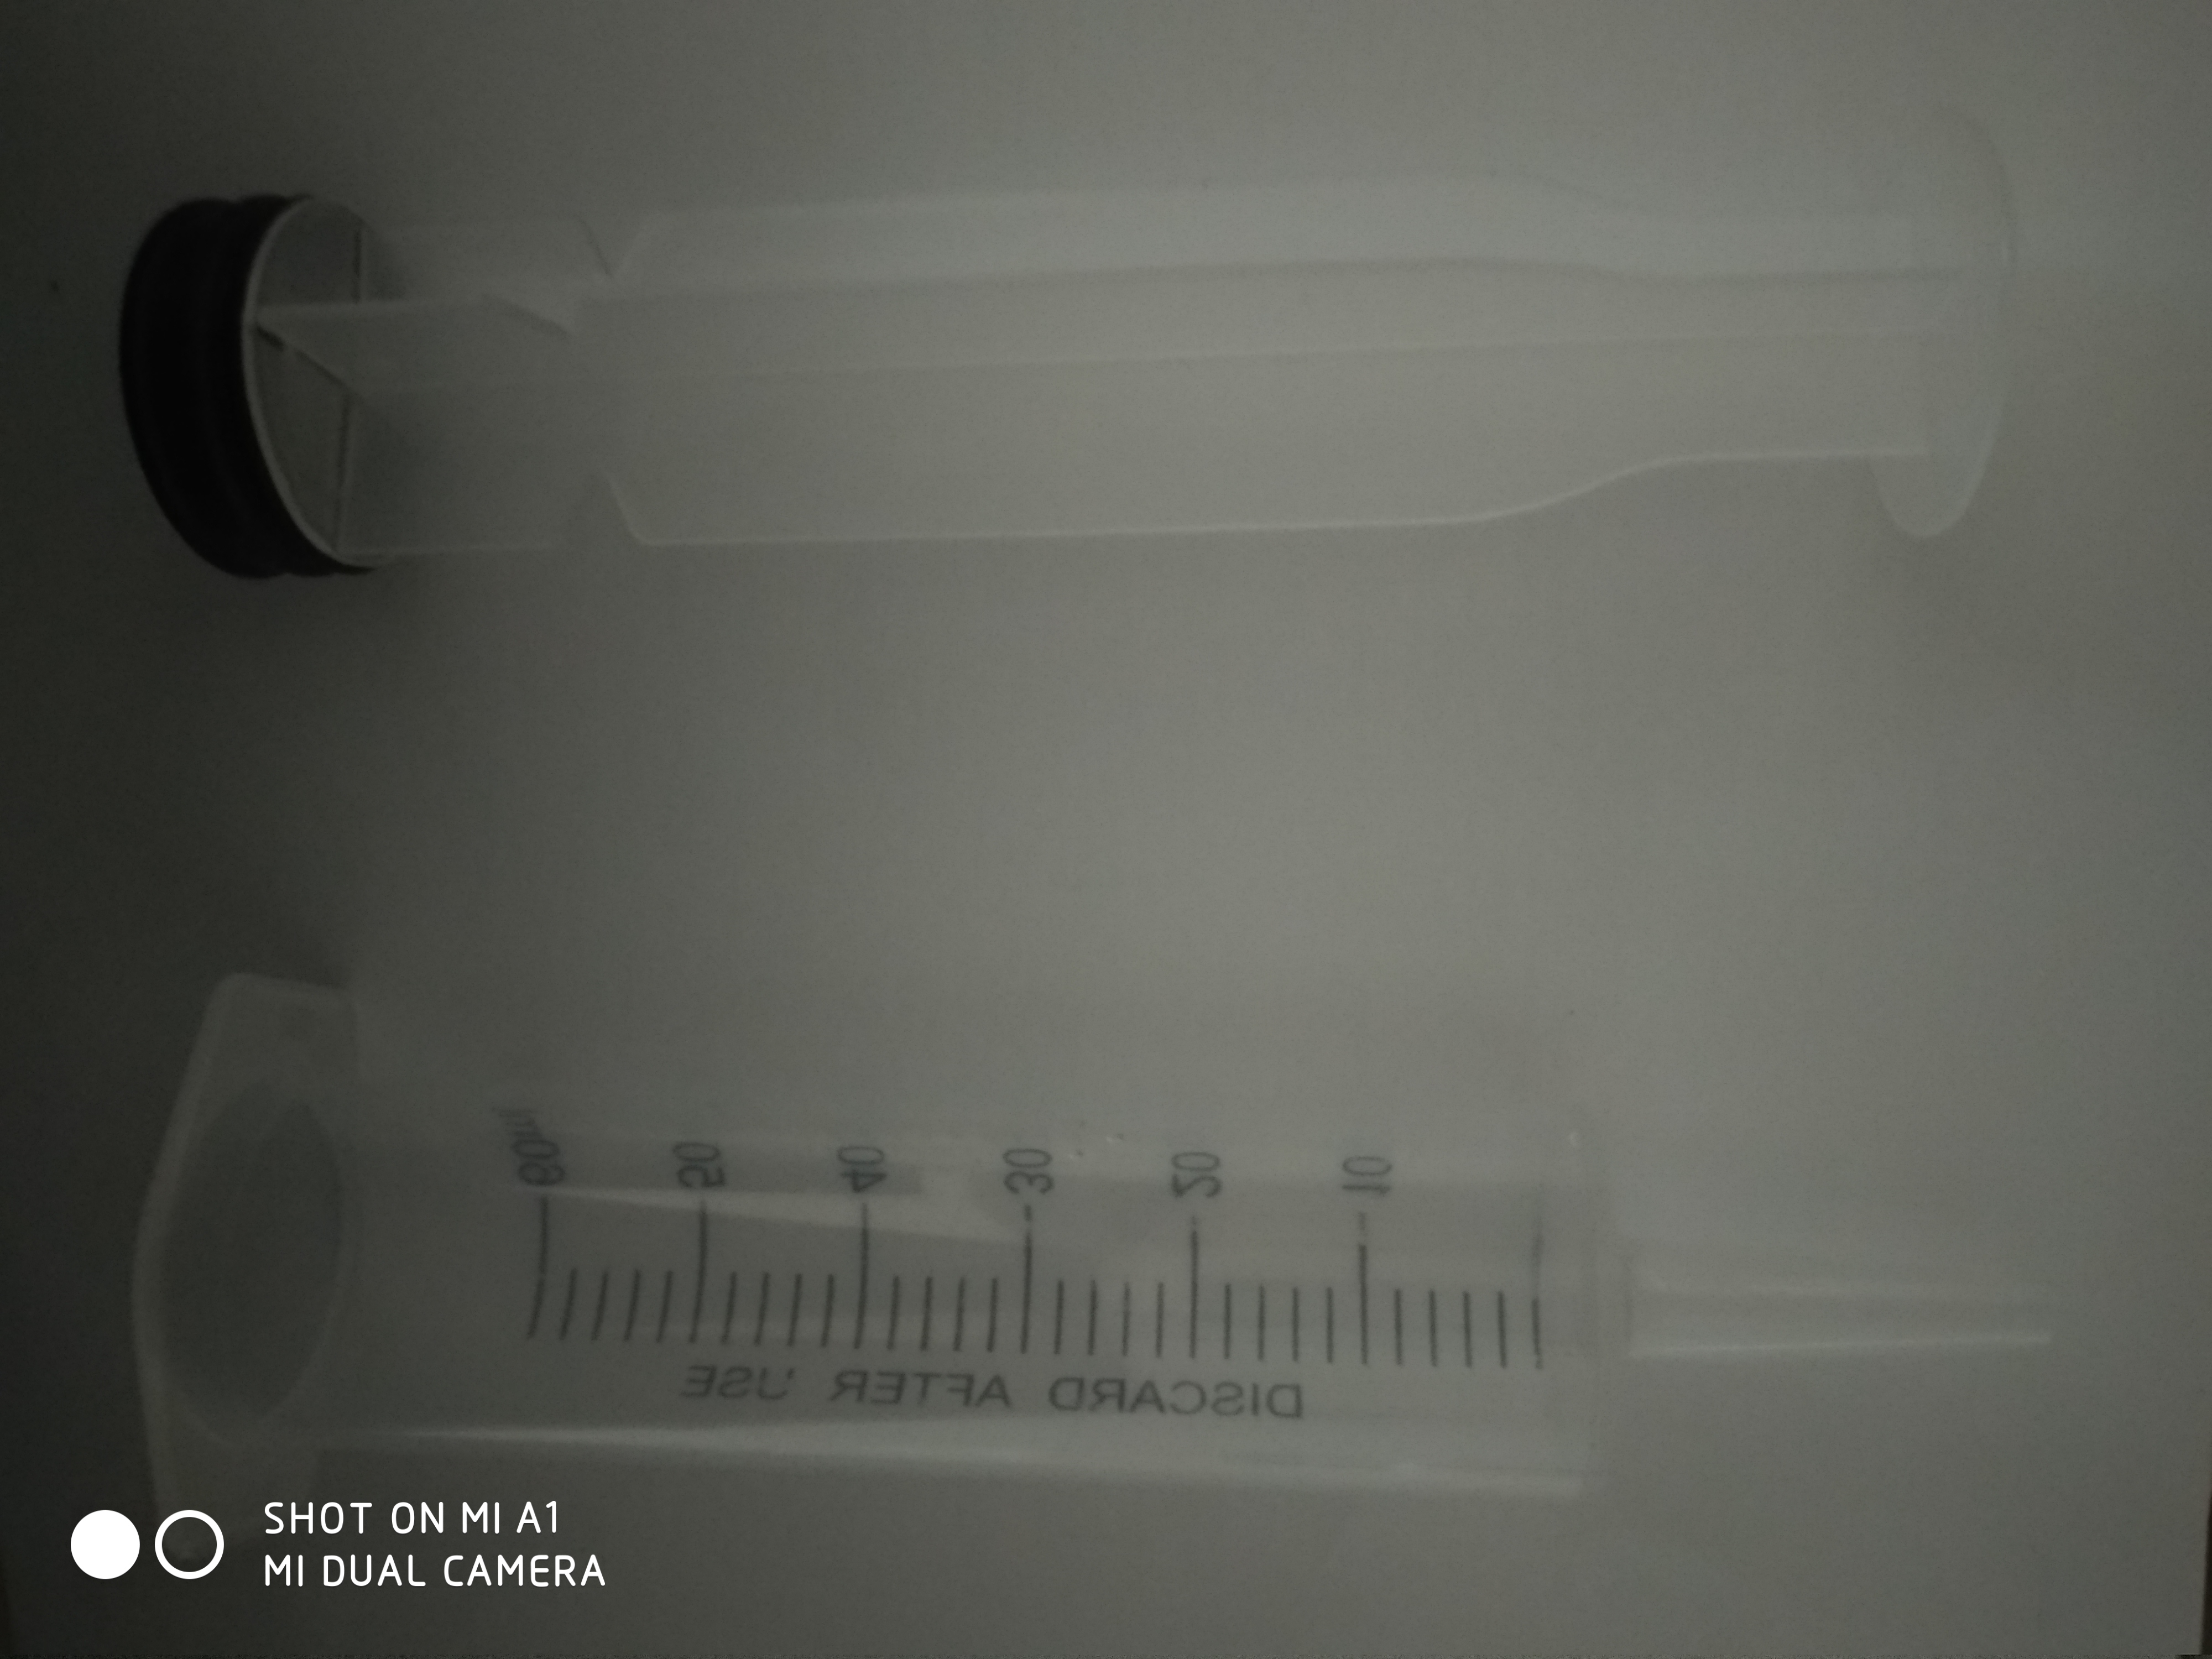plunger: (113, 96, 2036, 591)
syringe: (127, 950, 2080, 1572)
